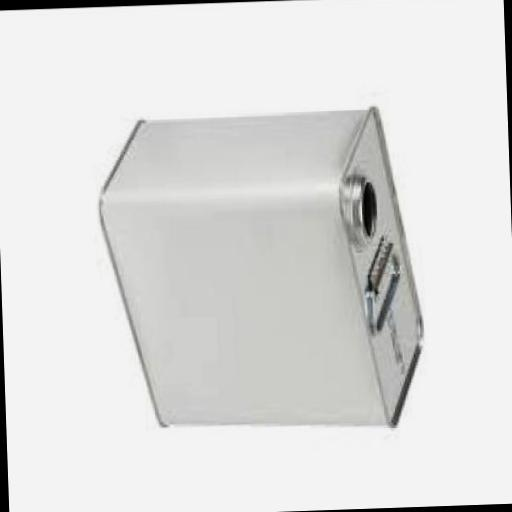metal: (100, 100, 430, 433)
